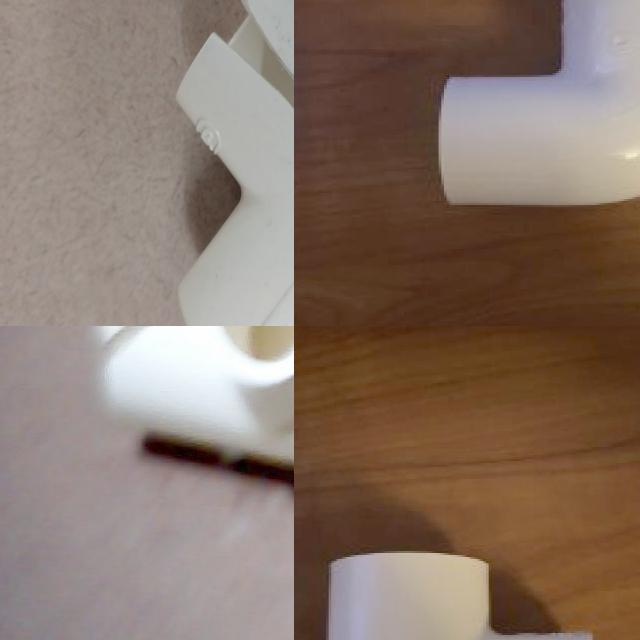Defective: (0, 193, 126, 326), (196, 138, 294, 289), (88, 326, 209, 371), (98, 326, 161, 384)
T Joint: (0, 86, 294, 326), (92, 326, 294, 484), (324, 552, 593, 640)
